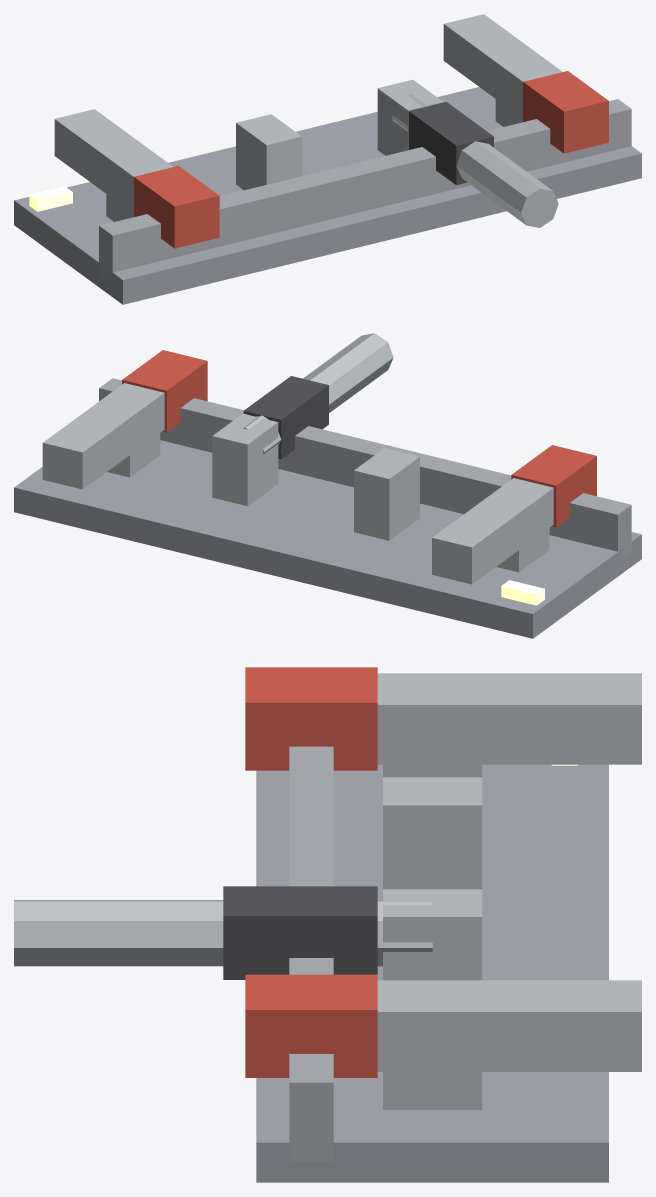
The model's file is prop_tool_rack.glb.
The picture shows the model from 3 angles, top to bottom: view 1: azimuth 30°, elevation 25°; view 2: azimuth 150°, elevation 25°; view 3: azimuth 270°, elevation 25°; orthographic projection. The views are drawn at different scales.
Parts seen in each view (by area): view 1: prop_tool_rack; view 2: prop_tool_rack; view 3: prop_tool_rack.
Part boxes in pixels (x1,y1,x2,y2): prop_tool_rack: [14, 14, 641, 304]; prop_tool_rack: [14, 333, 641, 638]; prop_tool_rack: [14, 667, 641, 1182].
Size of the model in its own units: 0.44 by 0.072 by 0.285.
